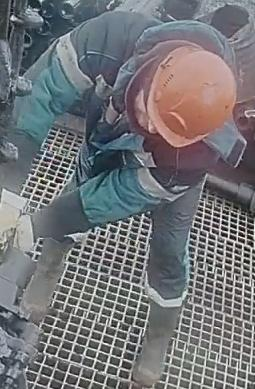gloves: (15, 209, 56, 258), (0, 182, 22, 255)
helmet: (144, 44, 238, 150)
vest: (67, 16, 235, 218)
